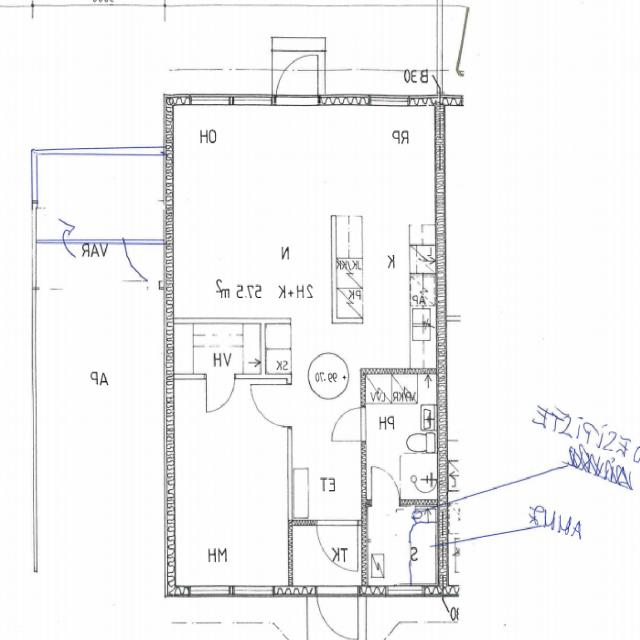door: (277, 48, 318, 105), (317, 585, 358, 640), (317, 520, 358, 572), (250, 384, 292, 427), (331, 407, 367, 441), (206, 374, 235, 410), (372, 468, 399, 506)
